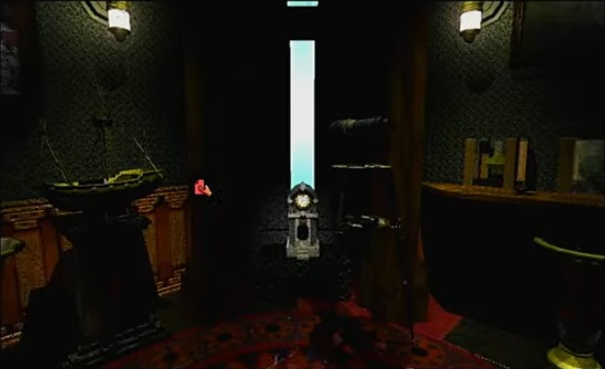Keep: (192, 174, 214, 200)
